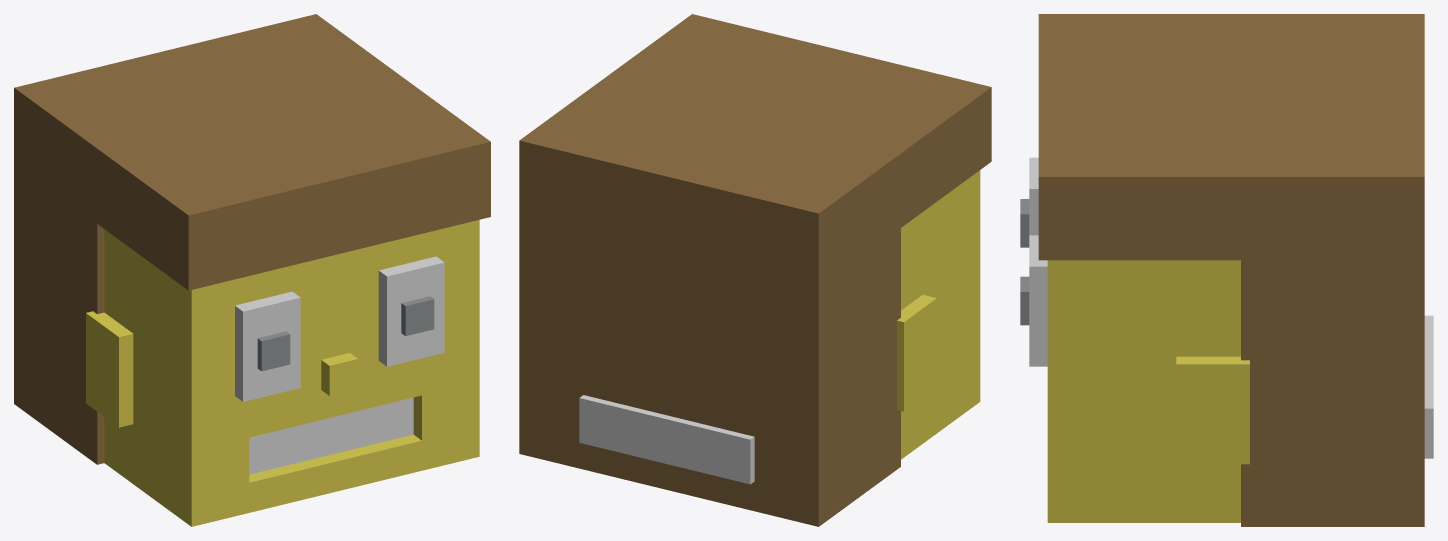
Rendered from couch1.glb.
3 renders of one model, left to right at view 1: azimuth 30°, elevation 25°; view 2: azimuth 150°, elevation 25°; view 3: azimuth 270°, elevation 25°, orthographic. The views are drawn at different scales.
Visible parts, largest first — view 1: Mesh_Mesh_head_geo.001_lambert2SG.001; view 2: Mesh_Mesh_head_geo.001_lambert2SG.001; view 3: Mesh_Mesh_head_geo.001_lambert2SG.001.
Part boxes in pixels (bbox=[...]): Mesh_Mesh_head_geo.001_lambert2SG.001: bbox=[14, 14, 490, 526]; Mesh_Mesh_head_geo.001_lambert2SG.001: bbox=[519, 14, 991, 526]; Mesh_Mesh_head_geo.001_lambert2SG.001: bbox=[1020, 14, 1433, 526].
Size of the model in its own units: 0.022 by 0.021 by 0.0225.
